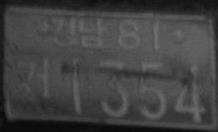1: (59, 55, 91, 116), (144, 18, 167, 48)
3: (99, 58, 131, 117)
4: (174, 63, 206, 122)
5: (137, 59, 167, 120)
8: (116, 18, 142, 50)
경남_O: (51, 15, 103, 48)
머: (16, 57, 50, 96)
